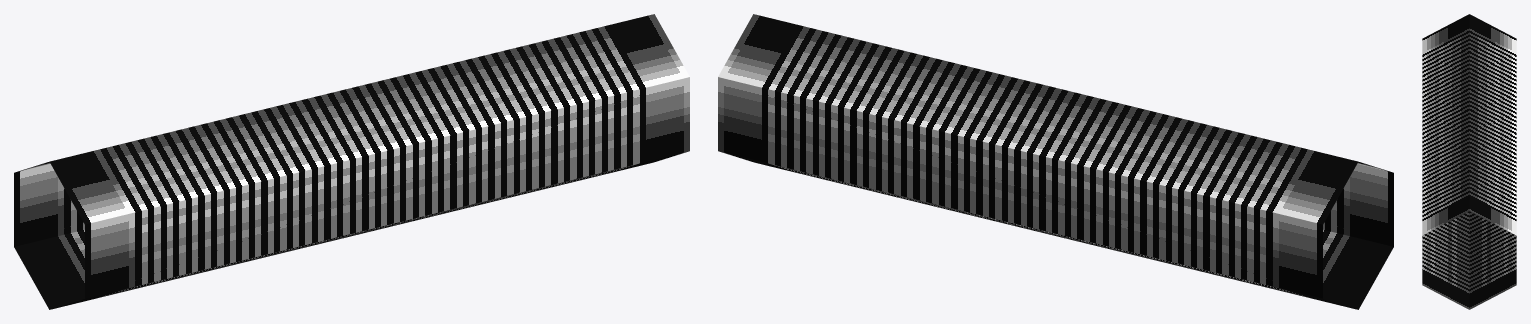
File: TubeStraight.glb
The picture shows the model from 3 angles, left to right: view 1: azimuth 30°, elevation 25°; view 2: azimuth 150°, elevation 25°; view 3: azimuth 270°, elevation 25°; orthographic projection. The views are drawn at different scales.
Parts seen in each view (by area): view 1: Cylinder; view 2: Cylinder; view 3: Cylinder.
Part boxes in pixels (x1,y1,x2,y2): Cylinder: (14,14,689,309); Cylinder: (718,14,1393,309); Cylinder: (1422,14,1516,309).
Bounding box in the file's own units: 5.6 × 1.31 × 1.14.
Materials: 1 (1 with a texture image).
